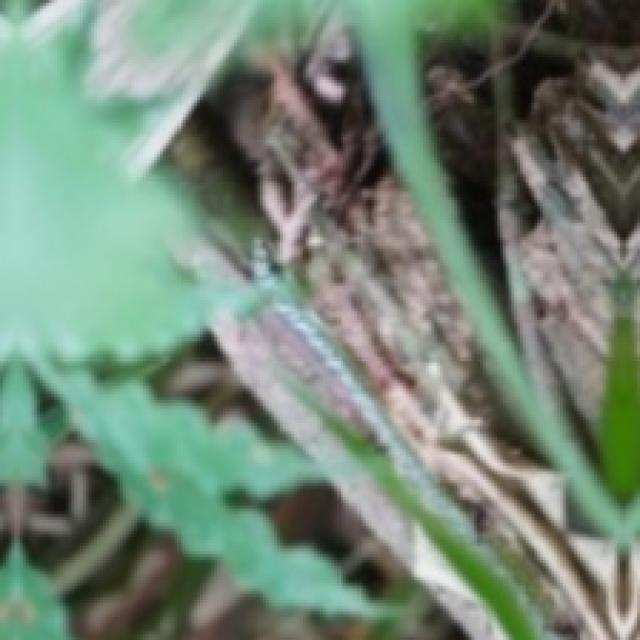paradise tree snake: (211, 23, 397, 263)
